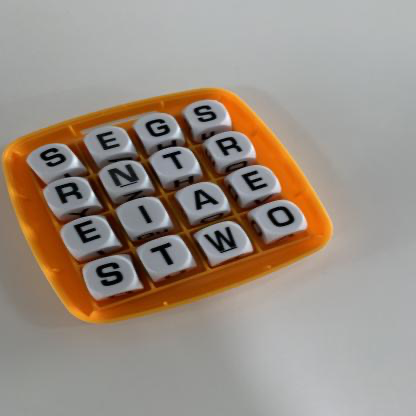a: (181, 183, 227, 217)
e: (63, 217, 112, 253), (233, 166, 279, 197), (88, 128, 131, 157)
g: (137, 115, 180, 143)
i: (120, 198, 169, 232)
n: (101, 161, 148, 194)
o: (256, 201, 306, 238)
r: (45, 178, 93, 211), (211, 132, 253, 161)
s: (84, 257, 137, 297), (31, 145, 76, 177), (187, 101, 228, 128)
t: (141, 238, 191, 273), (154, 147, 198, 178)
w: (198, 223, 248, 259)
